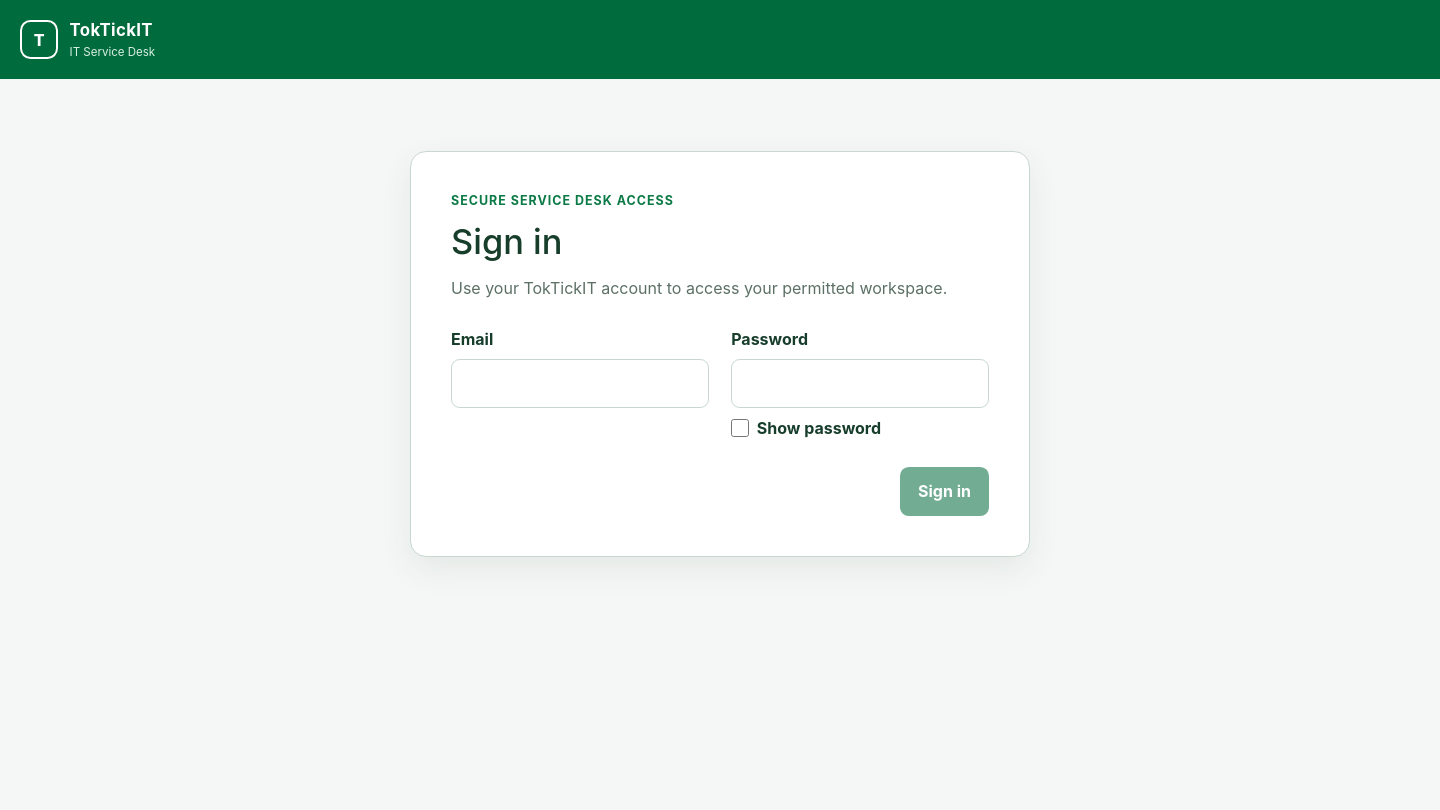
Test: Lab 3 authenticated Requester UI › ignores a stale initial session restore after a successful Login
Type "amina@example.test" into the field labelled "Email".
click(580, 384); type("amina@example.test")  # box [451,359,709,408]
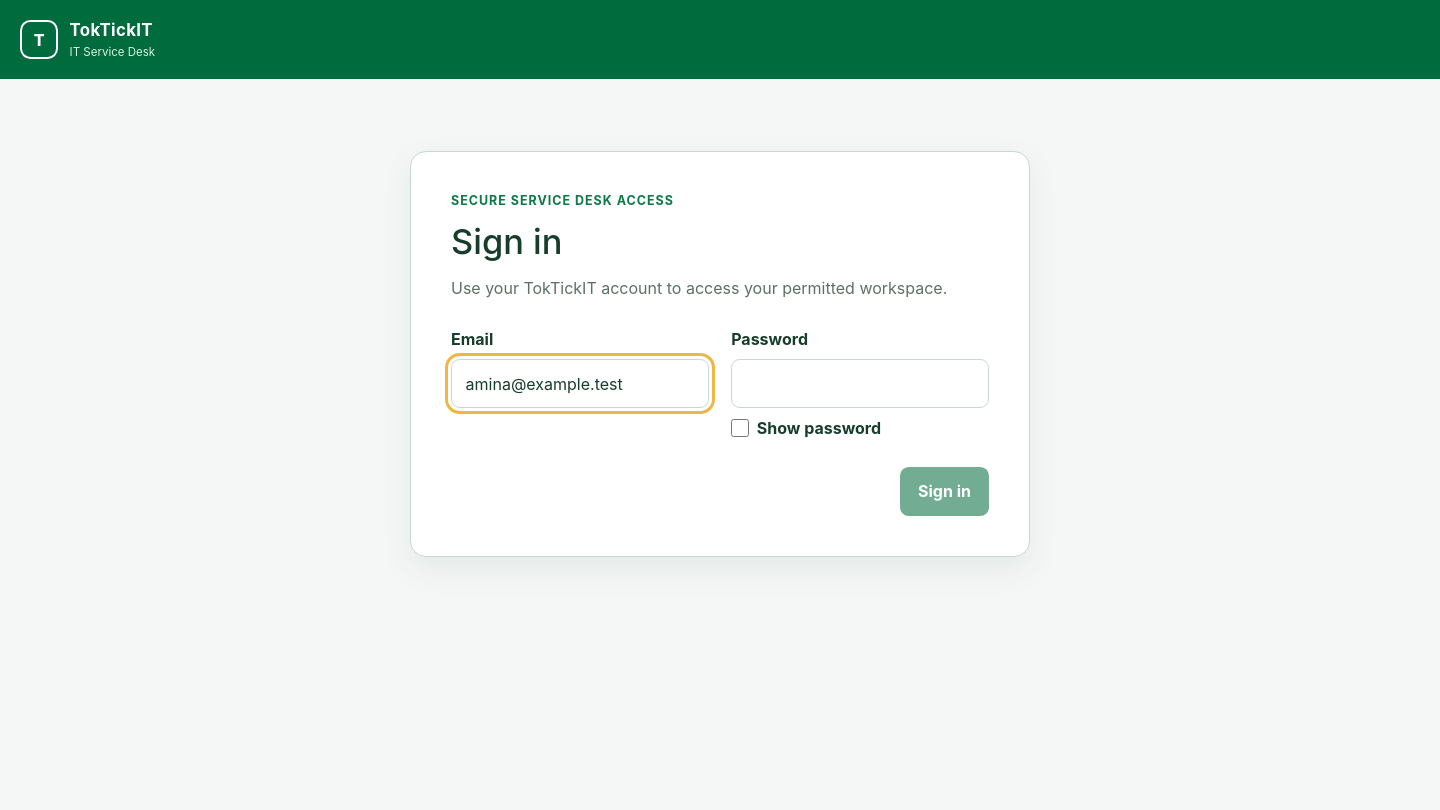
Type "Initial-Lab3!Password" into the password field labelled "Password".
click(860, 384); type("Initial-Lab3!Password")  # box [731,359,989,408]
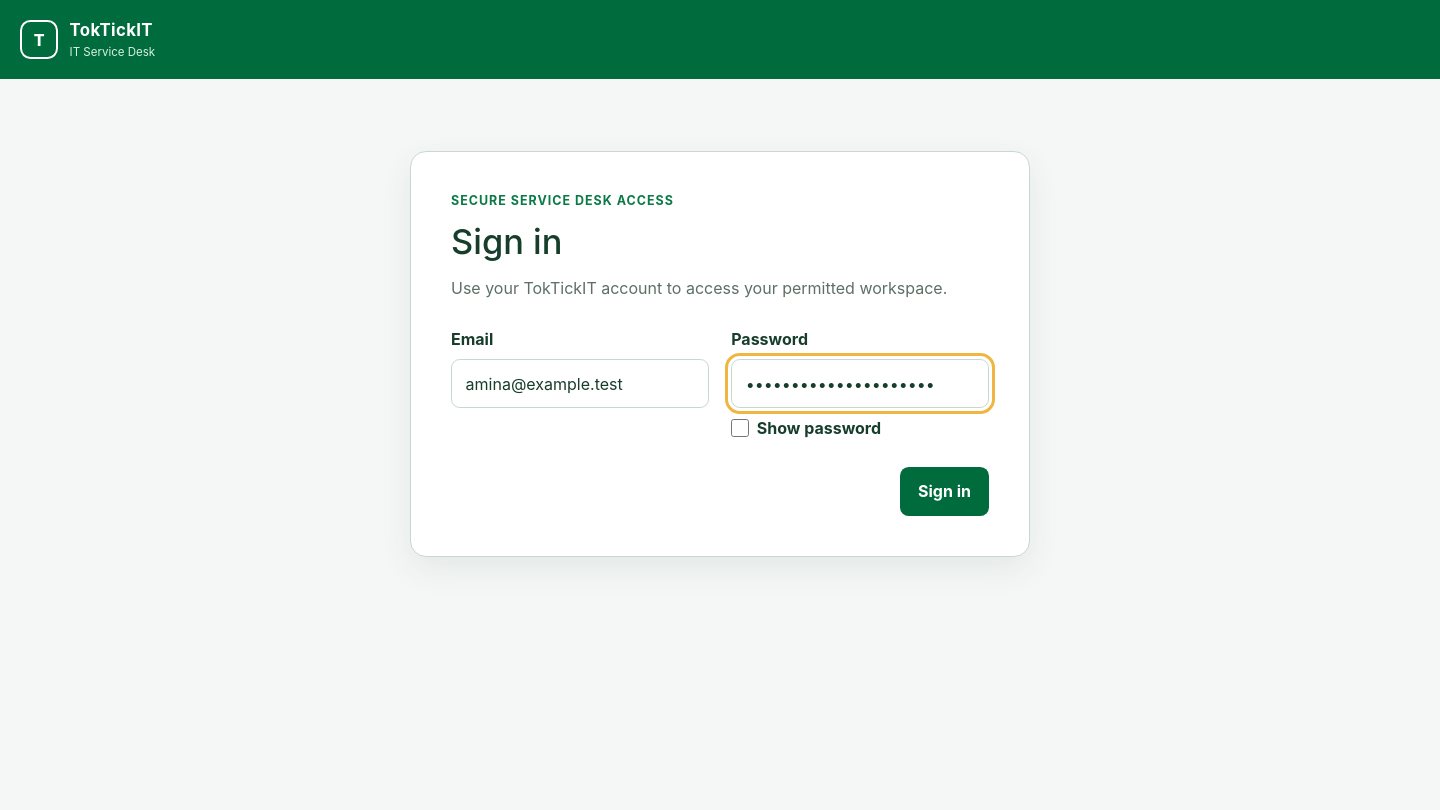
Click the button "Sign in".
click(944, 491)  # box [900,467,989,516]
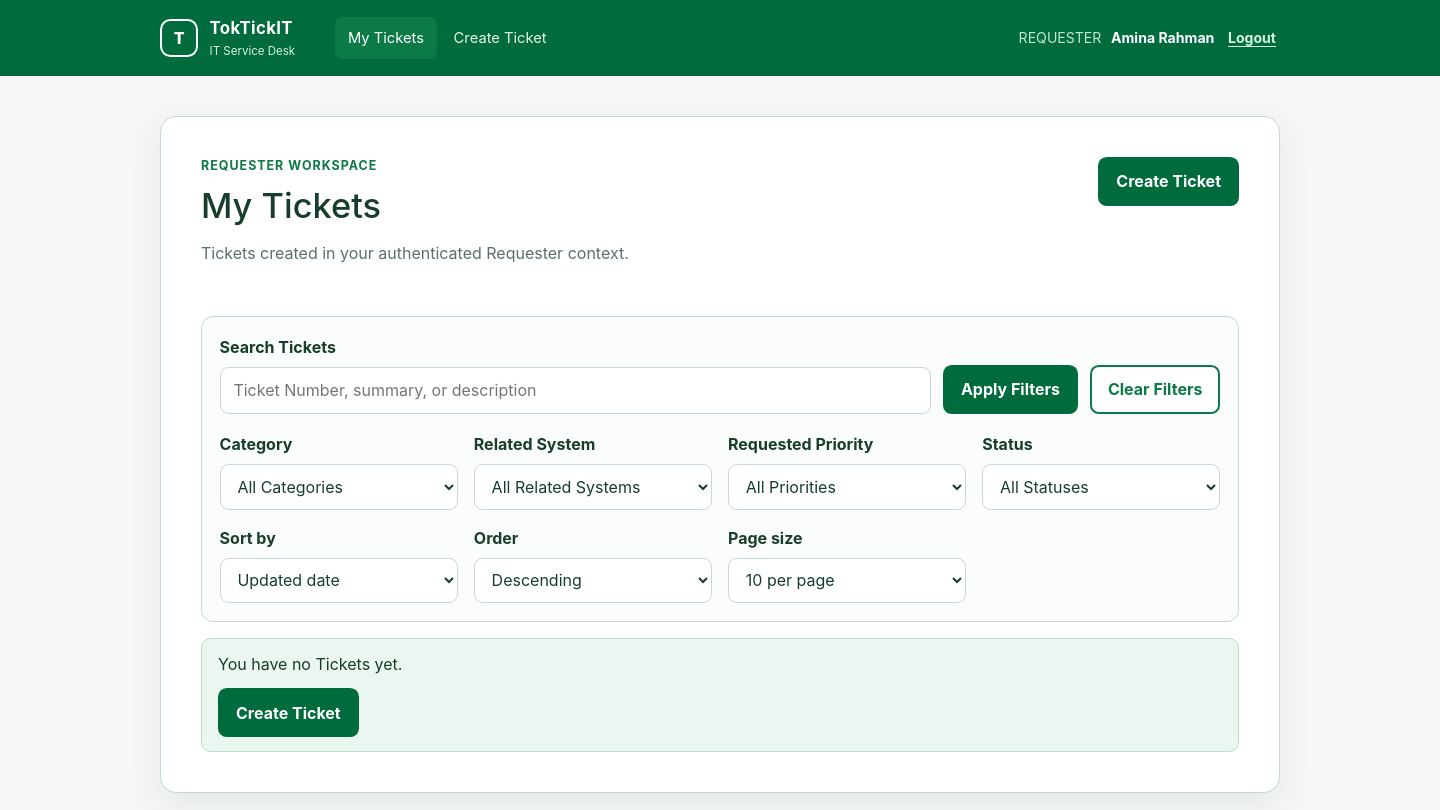
Expected: the heading "My Tickets" is shown, [201,185,381,226]
